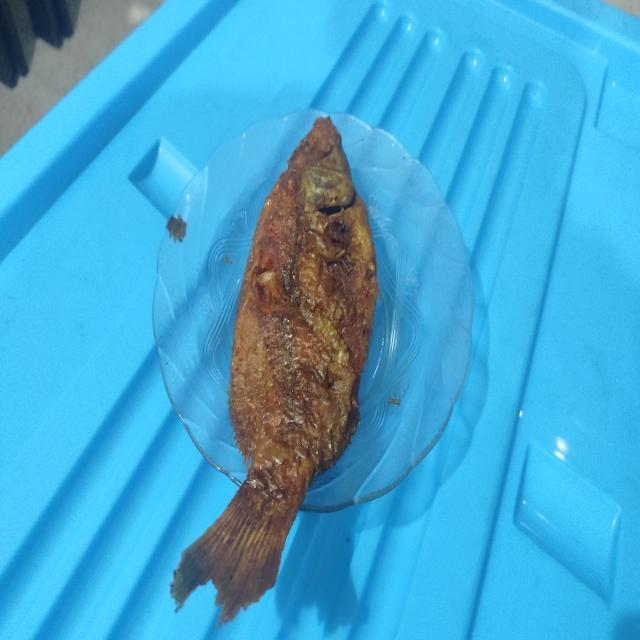ikan_mujair: (170, 117, 378, 624)
